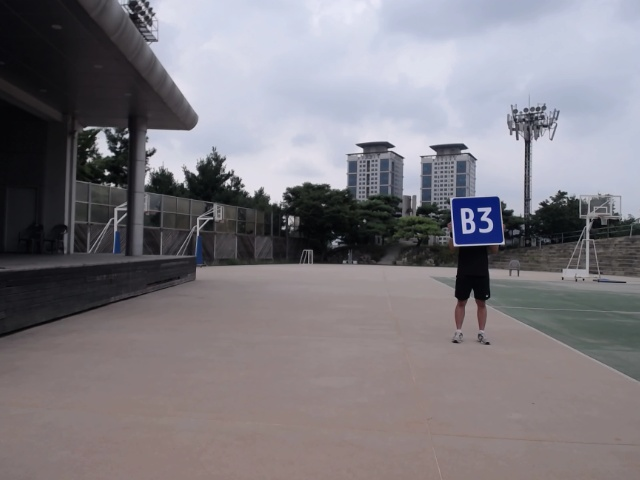delivery_b3: (450, 195, 506, 248)
